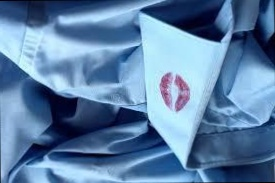lipstick: (157, 64, 192, 116)
